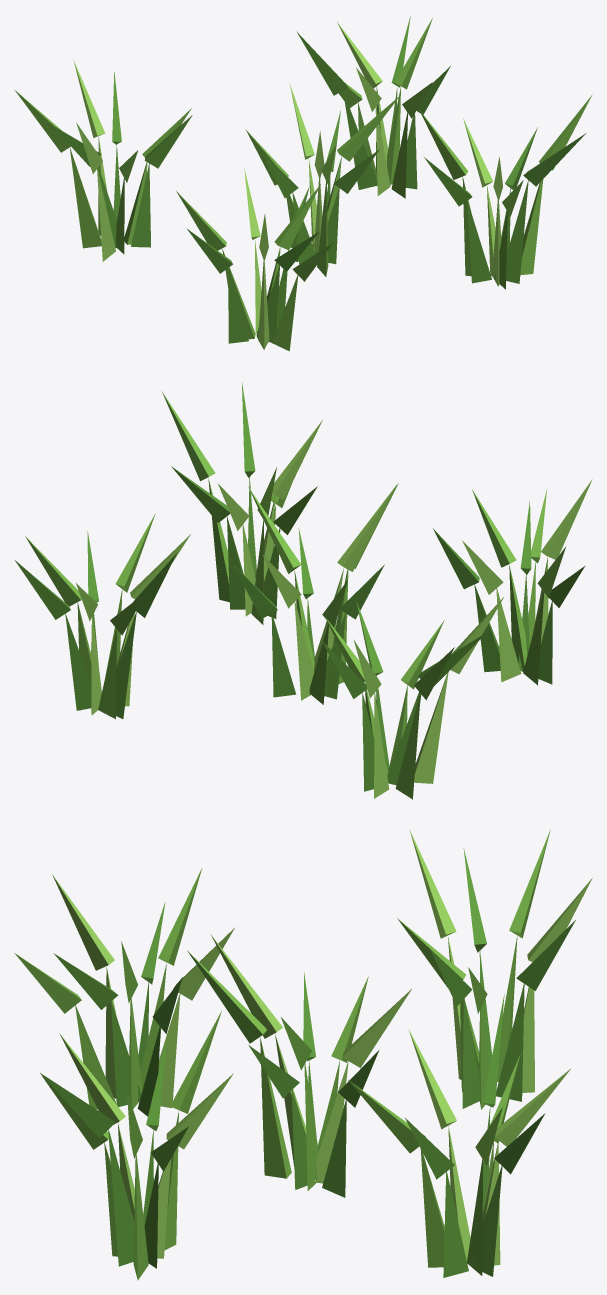
The model's file is grass-3.glb.
The picture shows the model from 3 angles, top to bottom: view 1: azimuth 30°, elevation 25°; view 2: azimuth 150°, elevation 25°; view 3: azimuth 270°, elevation 25°; orthographic projection. The views are drawn at different scales.
Parts seen in each view (by area): view 1: grass-3; view 2: grass-3; view 3: grass-3.
Part boxes in pixels (x1,y1,x2,y2): grass-3: [15, 16, 591, 351]; grass-3: [15, 382, 592, 799]; grass-3: [14, 829, 592, 1280].
Size of the model in its own units: 0.7328 by 0.2838 by 0.6542.
Materials: 1 (1 with a texture image).
